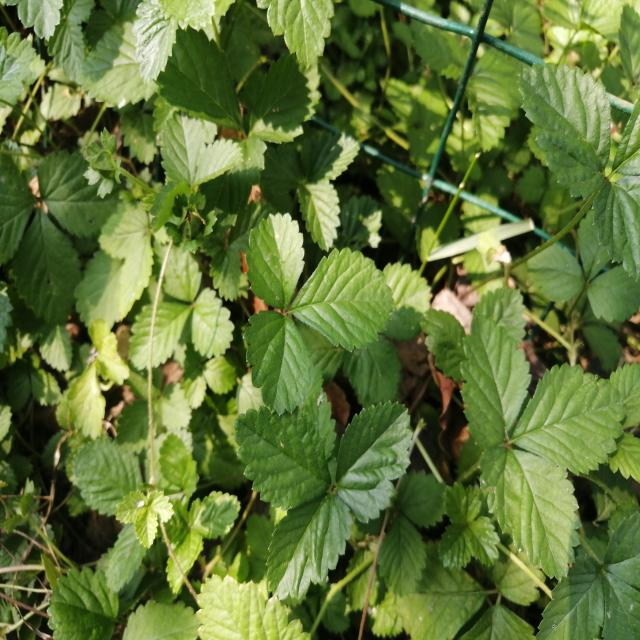Mock_strawberry: (228, 369, 412, 579)
